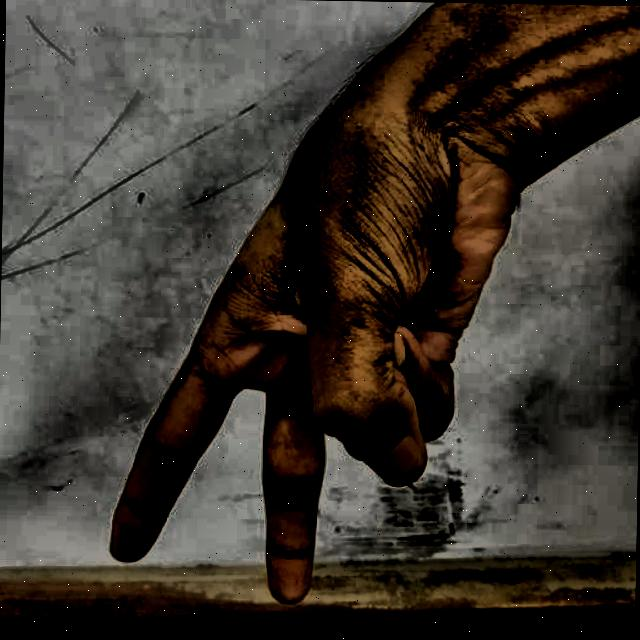Pa: (91, 54, 528, 620)
